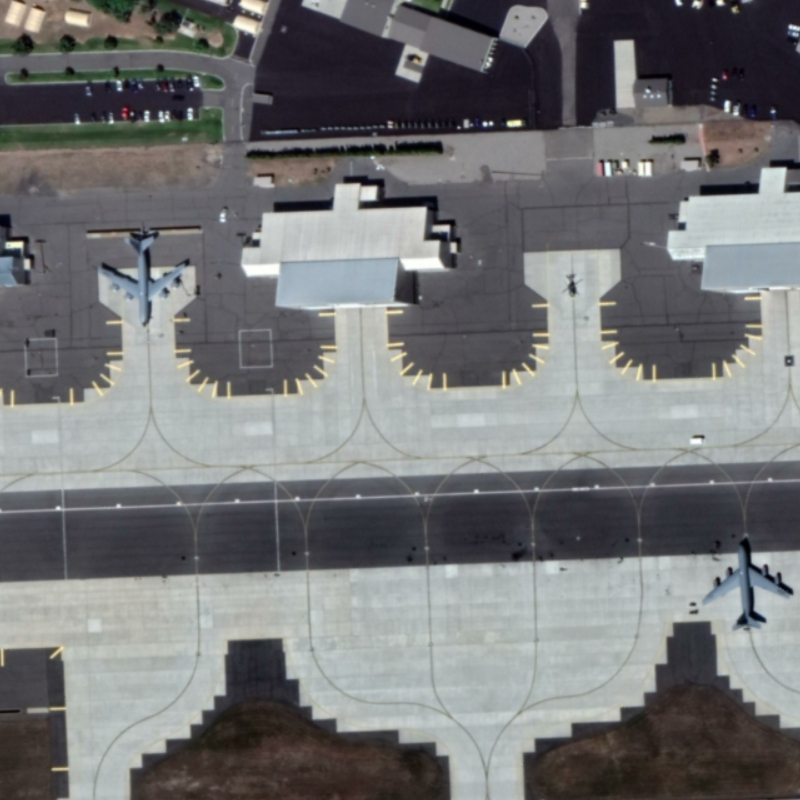A14: (87, 221, 199, 333), (694, 527, 799, 639)
